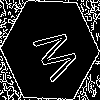W: (25, 25, 81, 88)
